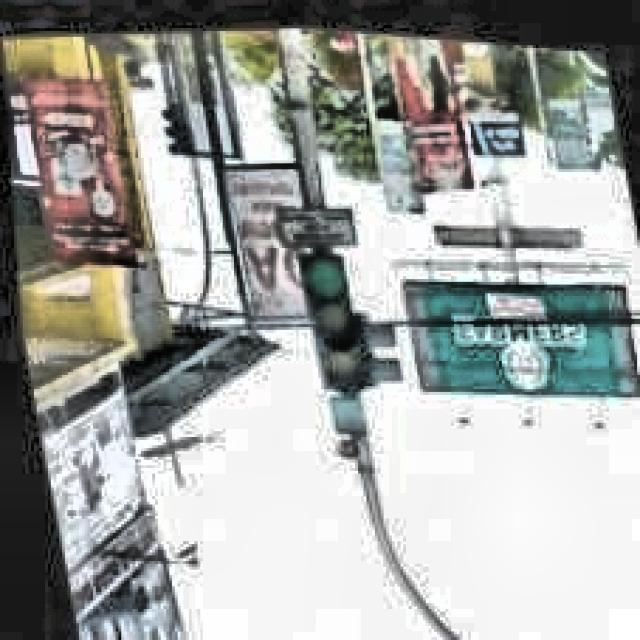green: (292, 243, 362, 389)
